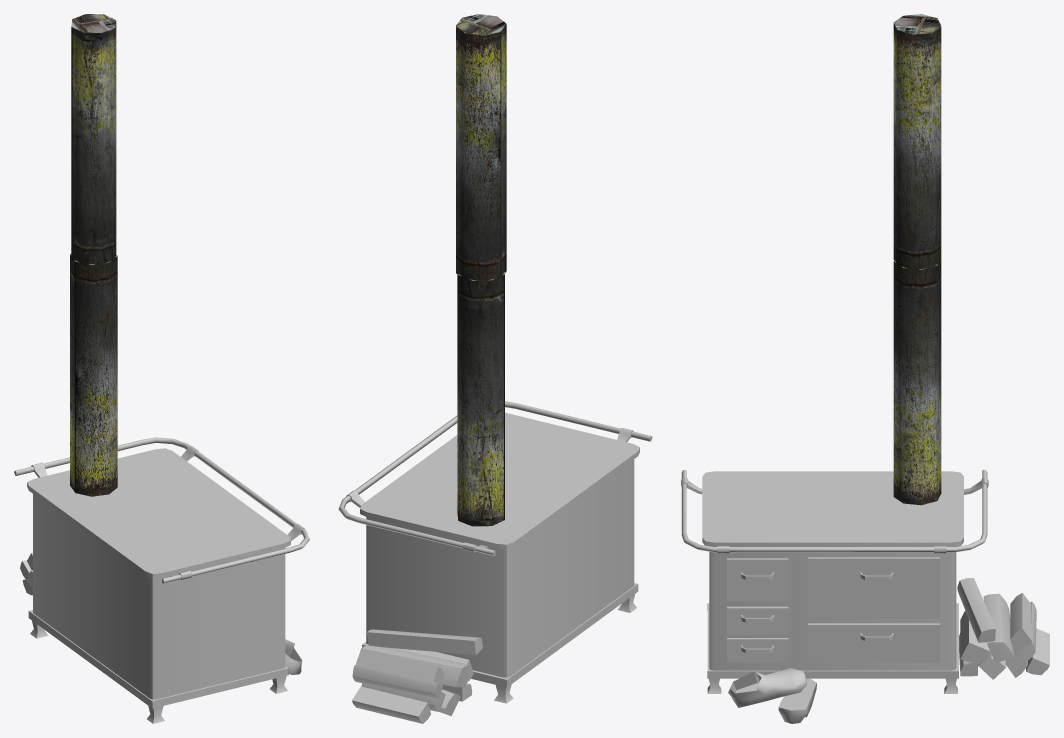
Rendered from Cocinaalena.FBX.
3 renders of one model, left to right at view 1: azimuth 30°, elevation 25°; view 2: azimuth 150°, elevation 25°; view 3: azimuth 270°, elevation 25°, orthographic. The views are drawn at different scales.
Visible parts, largest first — view 1: Cocina, Chimenea003, Chimenea002; view 2: Cocina, Chimenea003, Chimenea002, Lena01, Lena06, Lena03, Lena05, Lena02, Lena07; view 3: Cocina, Chimenea003, Chimenea002, Shoe01, Lena01, Lena02, Lena03, shoe02, Lena04, Lena06.
Part boxes in pixels (left/top/right/bottom): Cocina: left=14, top=437, right=309, bottom=723; Chimenea003: left=71, top=14, right=116, bottom=266; Chimenea002: left=70, top=253, right=117, bottom=496; Cocina: left=338, top=401, right=652, bottom=703; Chimenea003: left=456, top=14, right=506, bottom=282; Chimenea002: left=457, top=272, right=504, bottom=526; Lena01: left=367, top=629, right=482, bottom=655; Lena06: left=352, top=686, right=430, bottom=723; Lena03: left=356, top=648, right=444, bottom=685; Lena05: left=352, top=665, right=442, bottom=698; Lena02: left=356, top=644, right=470, bottom=687; Lena07: left=361, top=683, right=445, bottom=711; Cocina: left=681, top=469, right=988, bottom=693; Chimenea003: left=893, top=14, right=941, bottom=271; Chimenea002: left=893, top=260, right=941, bottom=505; Shoe01: left=728, top=668, right=807, bottom=707; Lena01: left=957, top=578, right=995, bottom=642; Lena02: left=983, top=593, right=1013, bottom=662; Lena03: left=1010, top=592, right=1032, bottom=651; shoe02: left=778, top=678, right=816, bottom=723; Lena04: left=960, top=610, right=989, bottom=663; Lena06: left=1026, top=628, right=1049, bottom=675.
Bounding box in the file's own units: 32.1 × 110 × 57.09.
